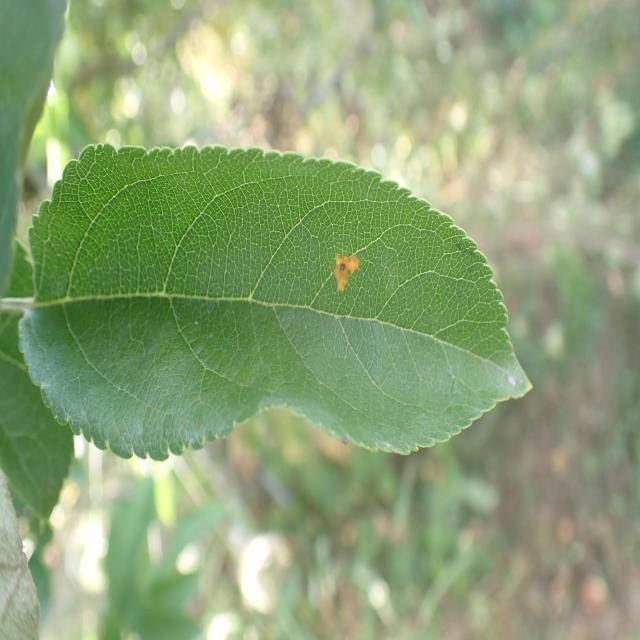Rust: (325, 239, 366, 303)
